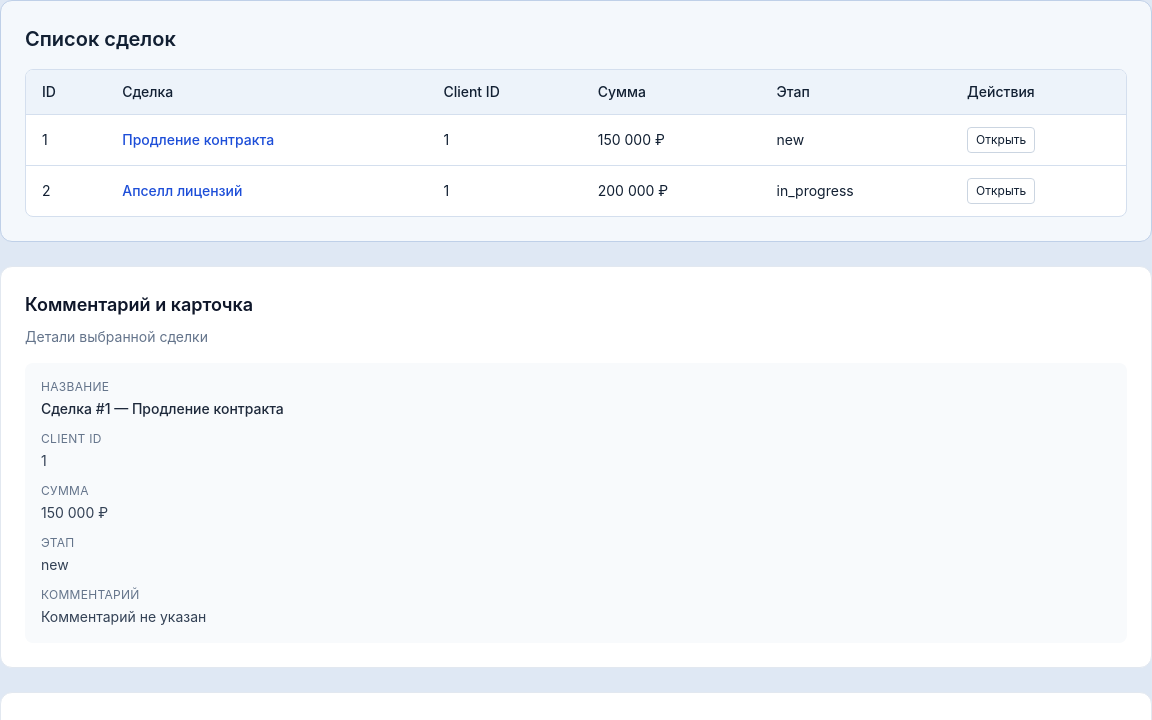
Test case: DealsPage › selects first remaining deal after deleting current selection
Step 1. Click the button "Апселл лицензий" → (182, 191), box [122,181,242,201]
(page scrolled)
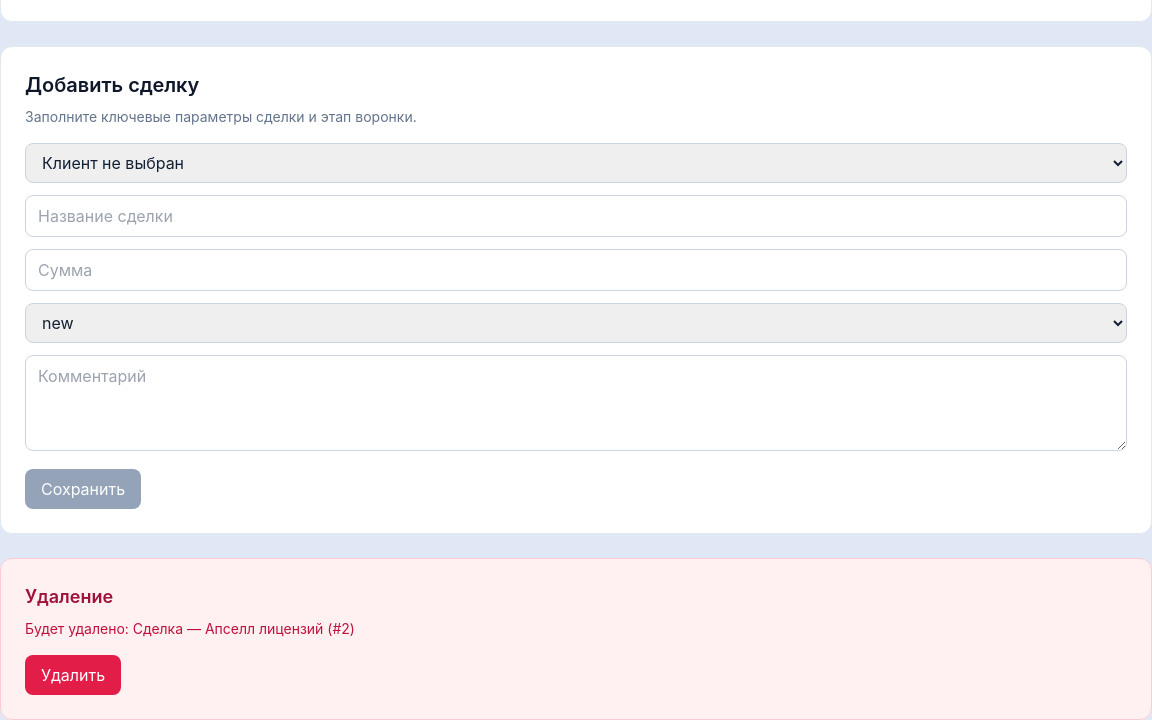
Step 2. Click the button "Удалить" → (73, 675), box [25,655,121,695]
(page scrolled)
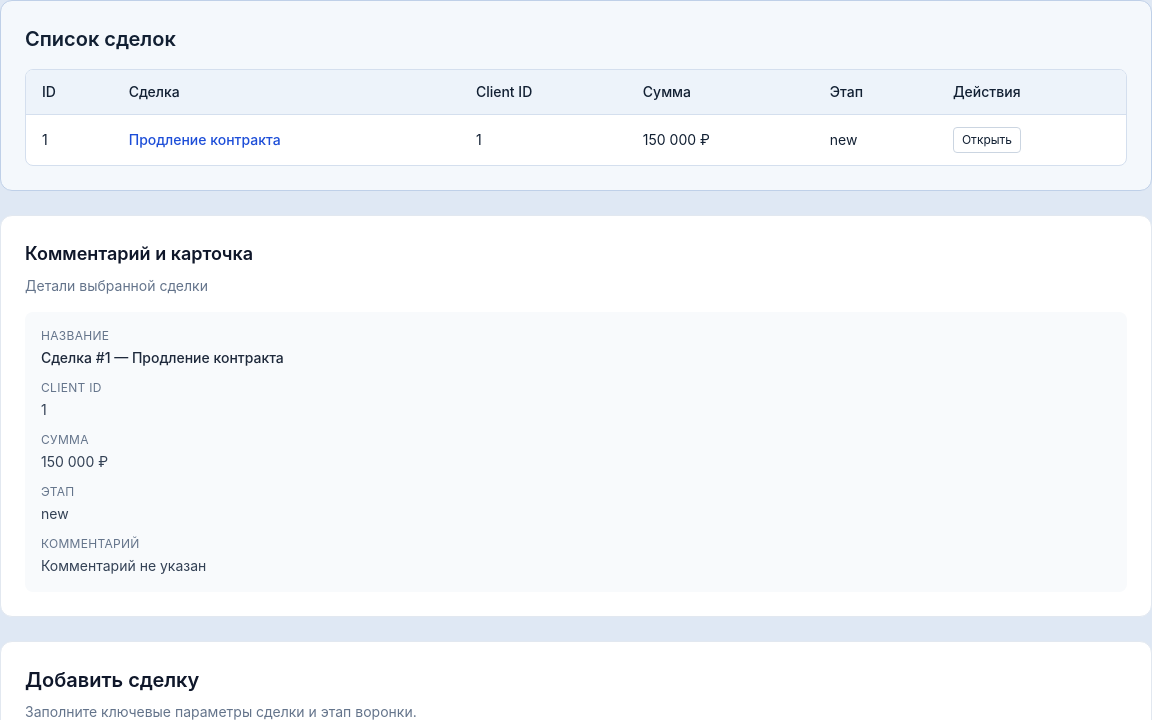
Expected: the text "Сделка #1 — Продление контракта" is shown, [41,349,284,366]
